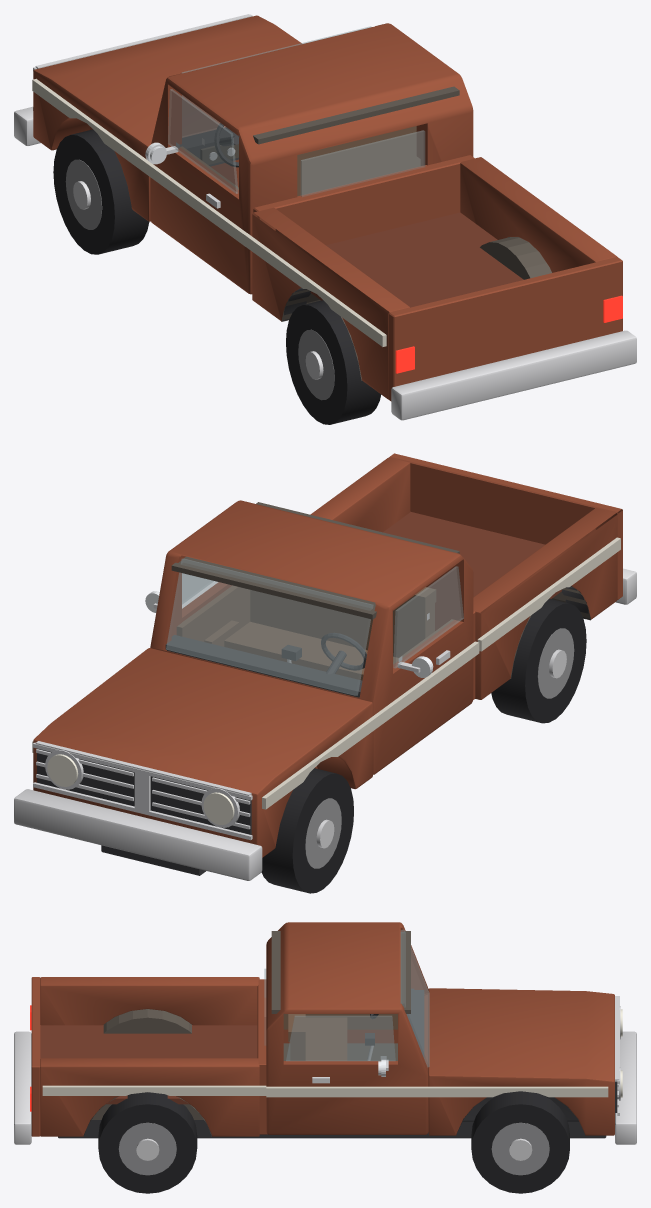
Rendered from old_pickup.glb.
The picture shows the model from 3 angles, top to bottom: view 1: azimuth 30°, elevation 25°; view 2: azimuth 150°, elevation 25°; view 3: azimuth 270°, elevation 25°; orthographic projection. The views are drawn at different scales.
Parts seen in each view (by area): view 1: OldPickup_Body, OldPickup_Interior, OldPickup_Glass, Wheel_FL, Wheel_RL, OldPickup_TailLights; view 2: OldPickup_Body, OldPickup_Glass, OldPickup_Interior, Wheel_FL, Wheel_RL; view 3: OldPickup_Body, Wheel_FR, Wheel_RR, OldPickup_Interior, OldPickup_Glass.
Part boxes in pixels (x1=…): OldPickup_Body: x1=14, y1=14, x2=636, y2=420; OldPickup_Interior: x1=179, y1=86, x2=459, y2=196; OldPickup_Glass: x1=168, y1=26, x2=425, y2=196; Wheel_FL: x1=53, y1=129, x2=149, y2=254; Wheel_RL: x1=286, y1=300, x2=381, y2=424; OldPickup_TailLights: x1=395, y1=295, x2=622, y2=373; OldPickup_Body: x1=14, y1=453, x2=636, y2=880; OldPickup_Glass: x1=166, y1=558, x2=463, y2=695; OldPickup_Interior: x1=165, y1=502, x2=459, y2=697; Wheel_FL: x1=261, y1=768, x2=353, y2=893; Wheel_RL: x1=491, y1=598, x2=586, y2=723; OldPickup_Body: x1=14, y1=922, x2=636, y2=1144; Wheel_FR: x1=471, y1=1091, x2=569, y2=1193; Wheel_RR: x1=98, y1=1092, x2=197, y2=1193; OldPickup_Interior: x1=271, y1=931, x2=424, y2=1060; OldPickup_Glass: x1=264, y1=929, x2=429, y2=1067.
Bounding box in the file's own units: 2.41 × 1.83 × 5.68.
